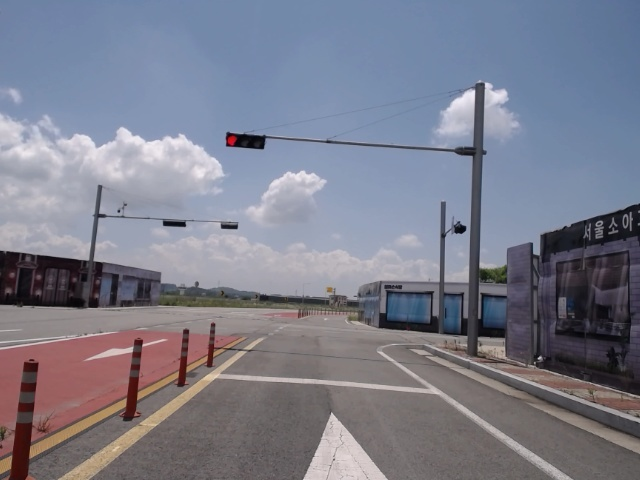red_3: (225, 132, 266, 150)
